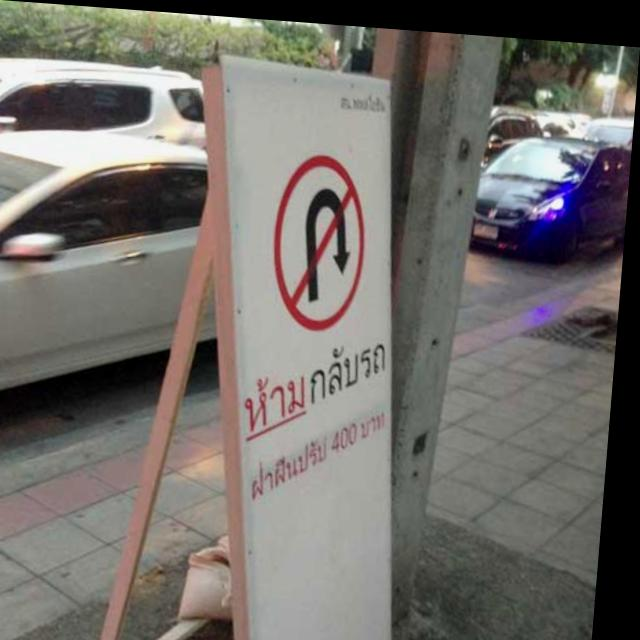not_u_turn_right: (273, 143, 383, 335)
